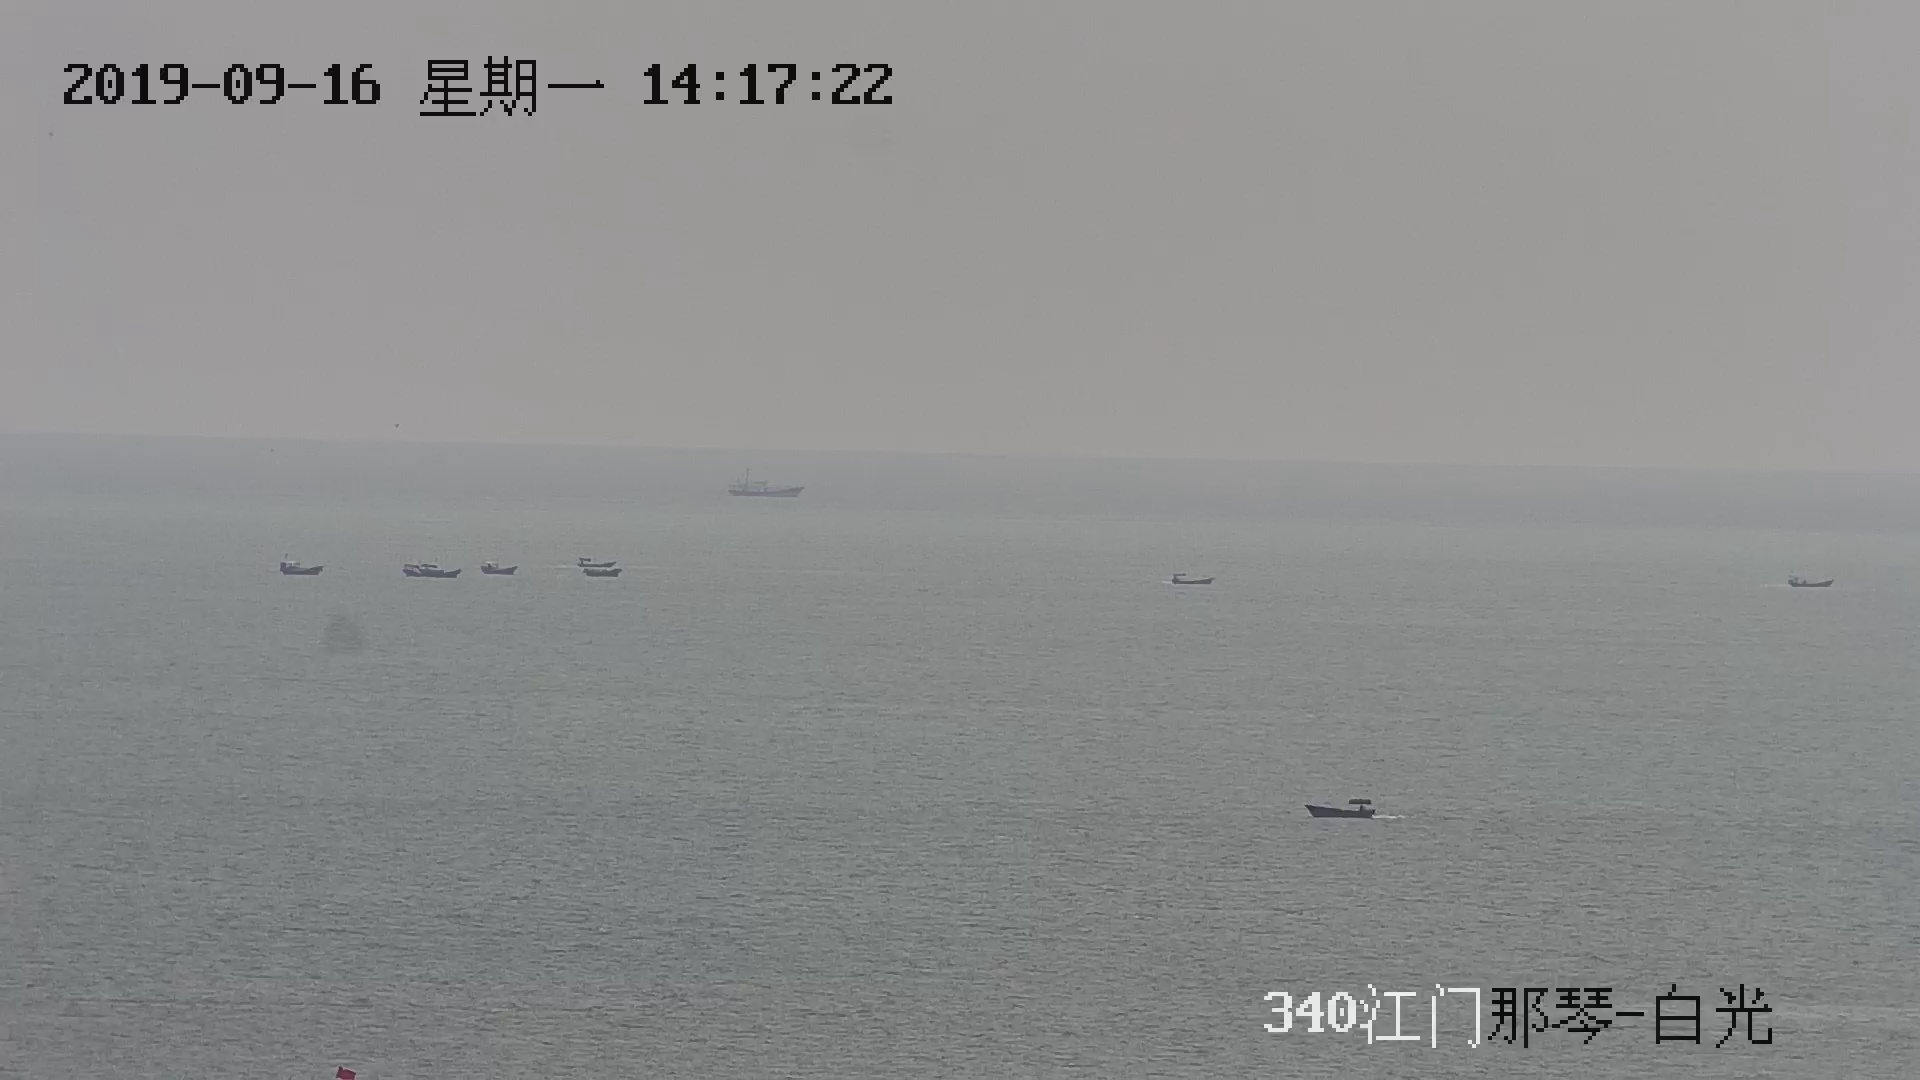ship: (728, 473, 804, 500), (1305, 800, 1379, 822), (576, 553, 626, 579), (404, 560, 462, 582), (272, 560, 324, 583), (1170, 568, 1215, 589), (1788, 574, 1836, 589), (485, 563, 520, 579)
